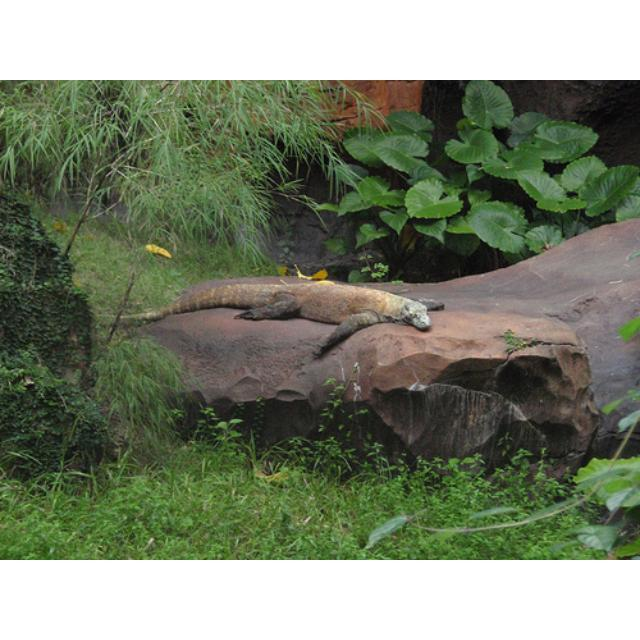KomodoDragon: (98, 278, 444, 359)
